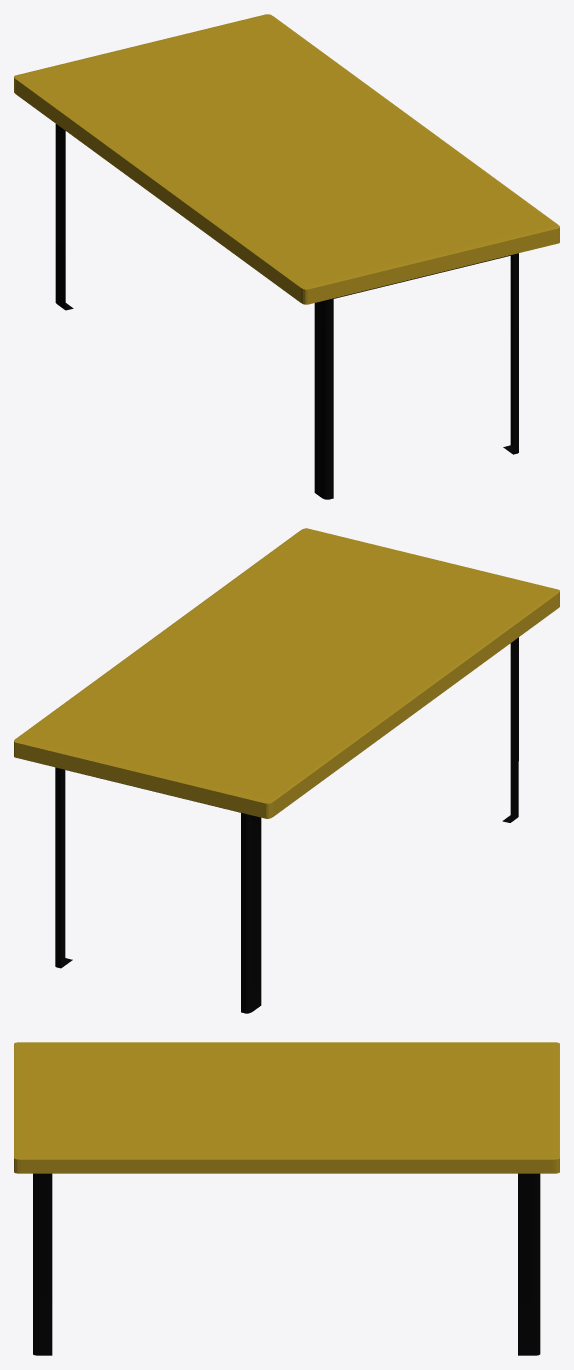
File: desk.fbx
The picture shows the model from 3 angles, top to bottom: view 1: azimuth 30°, elevation 25°; view 2: azimuth 150°, elevation 25°; view 3: azimuth 270°, elevation 25°; orthographic projection. The views are drawn at different scales.
Parts seen in each view (by area): view 1: Cube.002; view 2: Cube.002; view 3: Cube.002.
Boxes of the visible parts, x1,y1,x2,y2 form: Cube.002: (14,14,559,499); Cube.002: (14,528,559,1013); Cube.002: (14,1042,559,1355).
Bounding box in the file's own units: 258 × 215 × 506.
